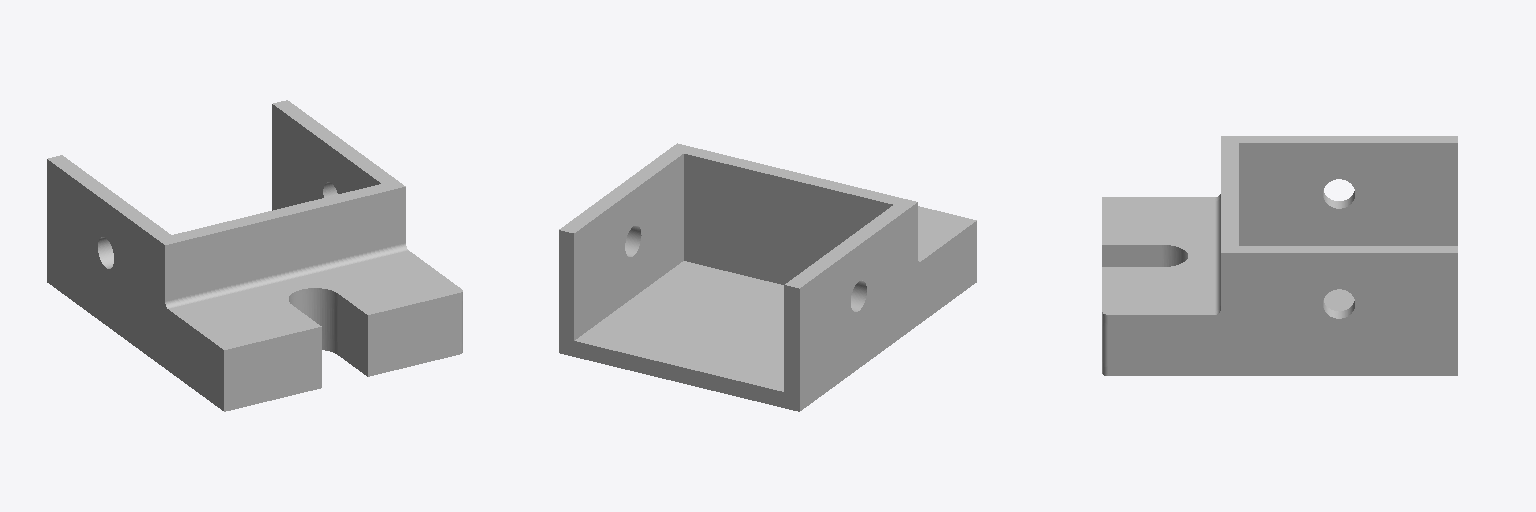
The model's file is spool_holder_2x.obj.
3 views of the same model, side by side, from view 1: azimuth 30°, elevation 25°; view 2: azimuth 150°, elevation 25°; view 3: azimuth 270°, elevation 25° (orthographic).
Parts seen in each view (by area): view 1: spool_holder_2x; view 2: spool_holder_2x; view 3: spool_holder_2x.
Part boxes in pixels (x1,y1,x2,y2): spool_holder_2x: (47,100,462,411); spool_holder_2x: (559,143,976,411); spool_holder_2x: (1102,136,1457,375).
Size of the model in its own units: 47 by 23 by 60.